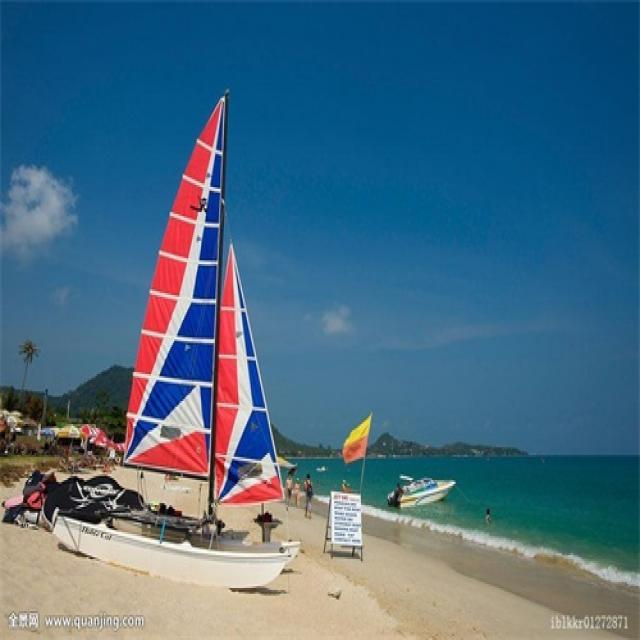Ship: (40, 95, 309, 587)
